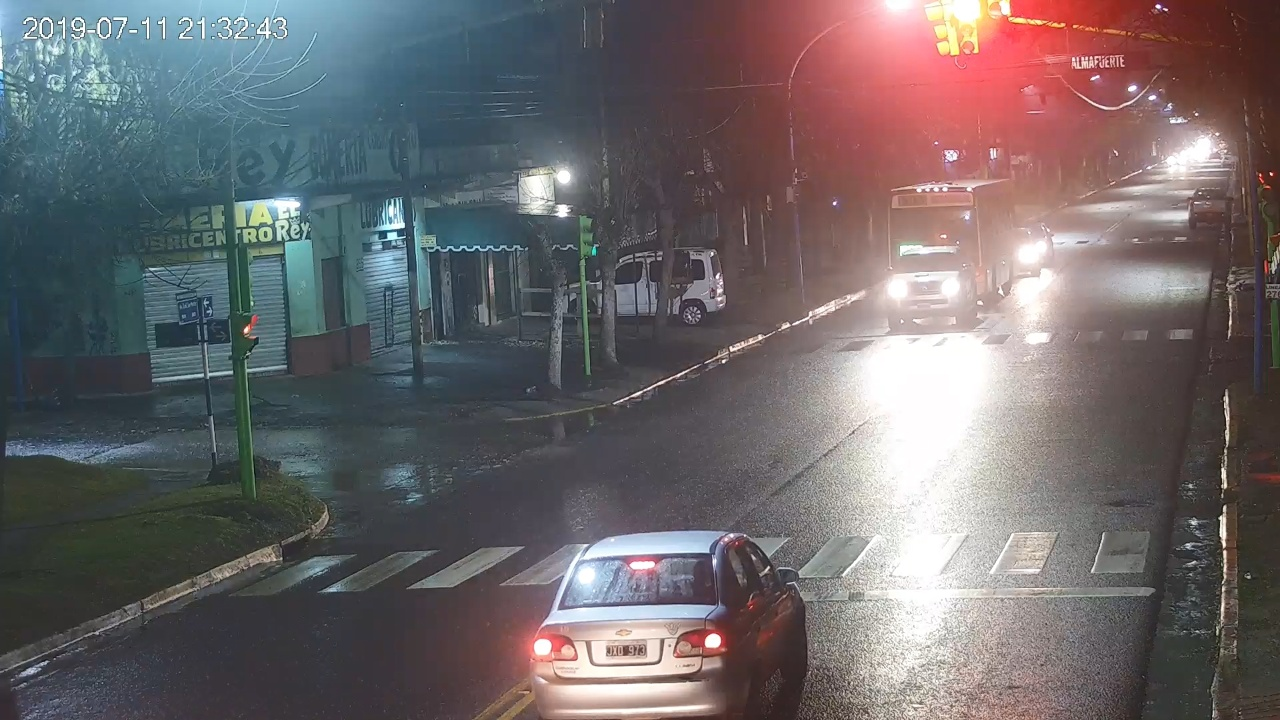car: (531, 531, 805, 720)
traffic light: (955, 1, 980, 52)
